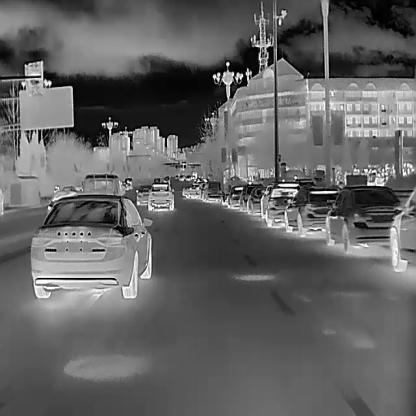car: (29, 194, 151, 299), (325, 185, 403, 251), (284, 186, 340, 232), (260, 181, 301, 225), (81, 172, 124, 198), (147, 184, 173, 211), (238, 183, 262, 210), (246, 187, 266, 213), (135, 184, 154, 206), (225, 185, 242, 209), (202, 180, 220, 201), (190, 182, 204, 198), (181, 184, 192, 198), (123, 177, 132, 189), (163, 176, 169, 184), (191, 171, 196, 180), (153, 177, 160, 183), (178, 175, 183, 180), (185, 176, 190, 181), (174, 174, 179, 178)
